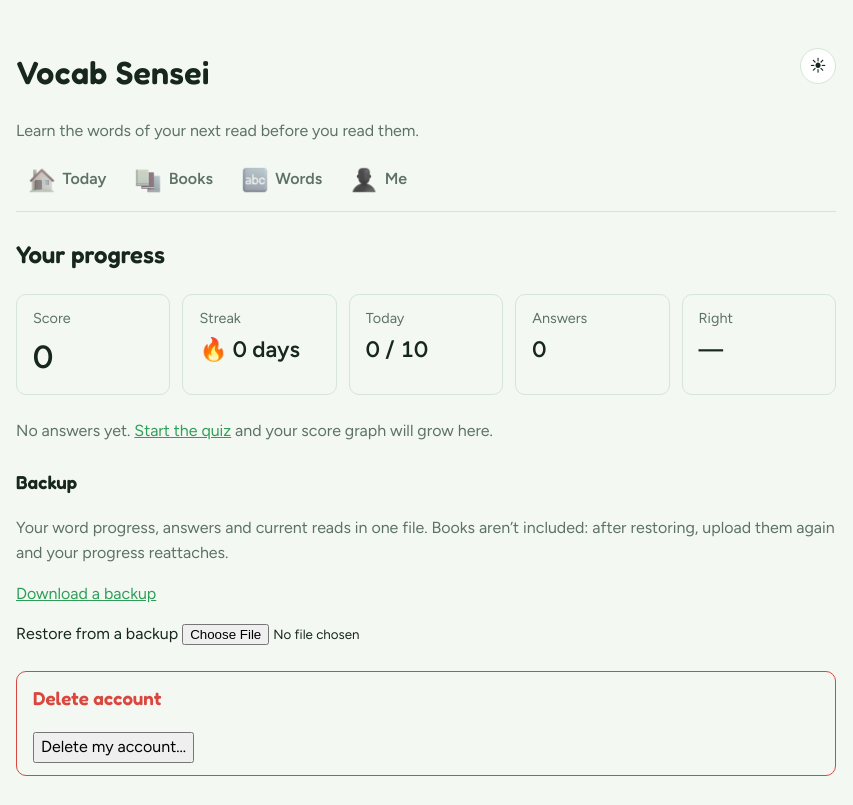
Test: deleting the account › says so when the password is wrong
Click the button "Delete my account…" at (114, 747), box [33, 732, 194, 763]
(page scrolled)
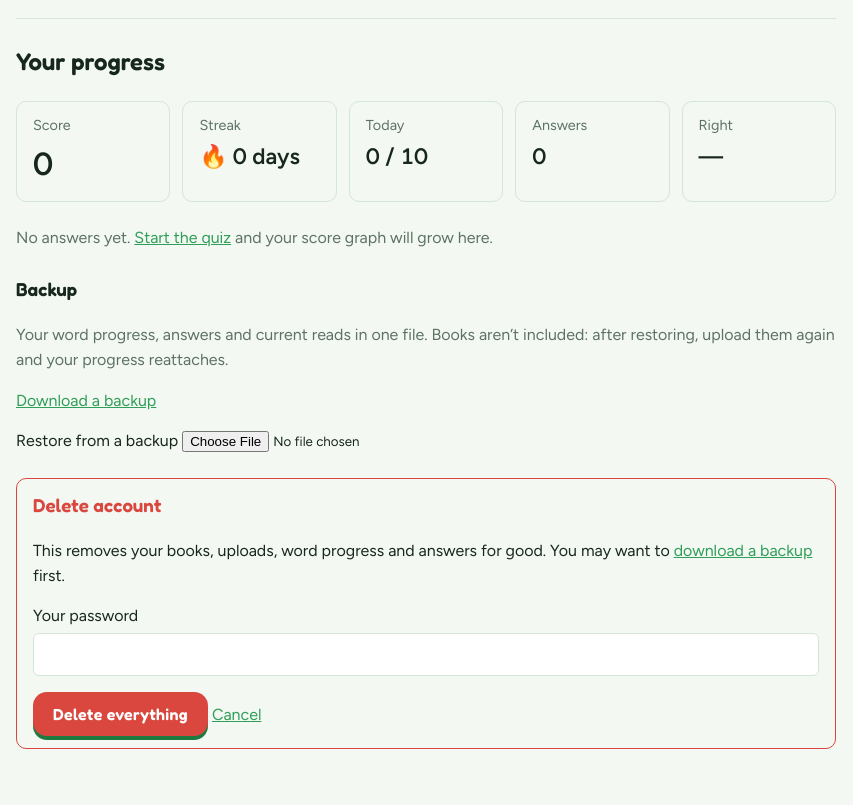
Type "nope nope nope" into the password field labelled "Your password" at (426, 655), box [33, 633, 819, 676]
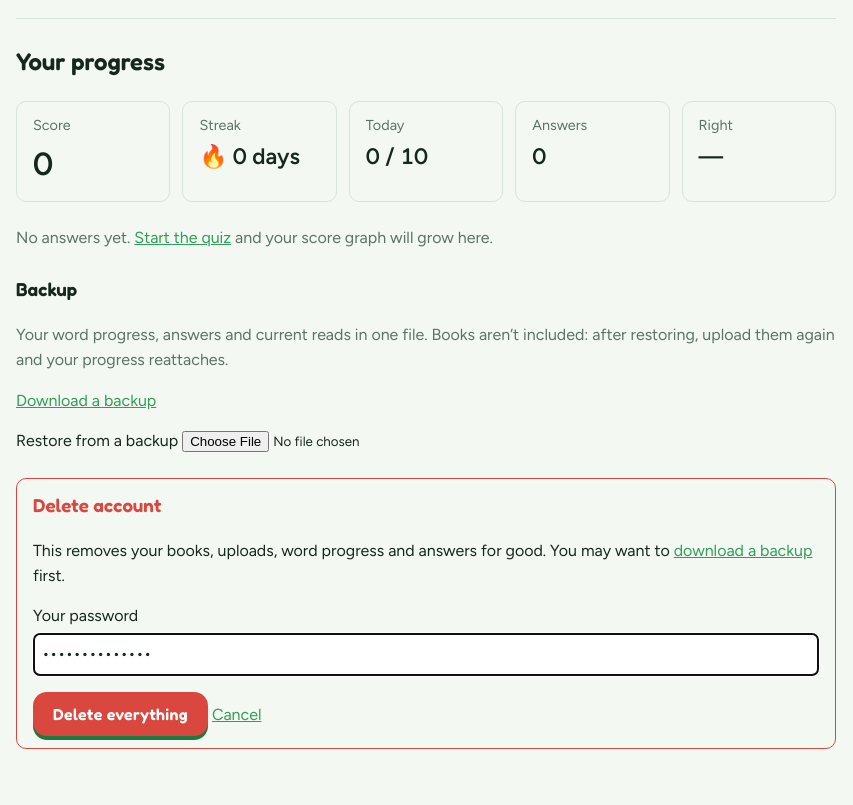
Click the button "Delete everything" at (120, 714), box [33, 692, 208, 736]
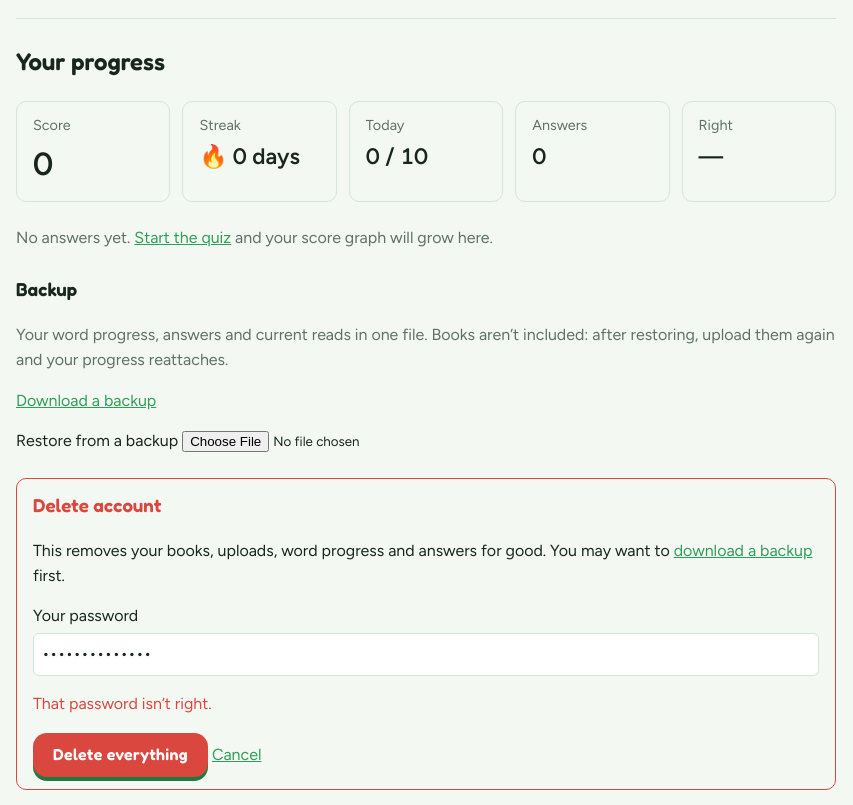
Expected: the heading "Your progress" is shown, [16, 48, 165, 76]
Result: the message reads "That password isn’t right." at [33, 694, 212, 713]
